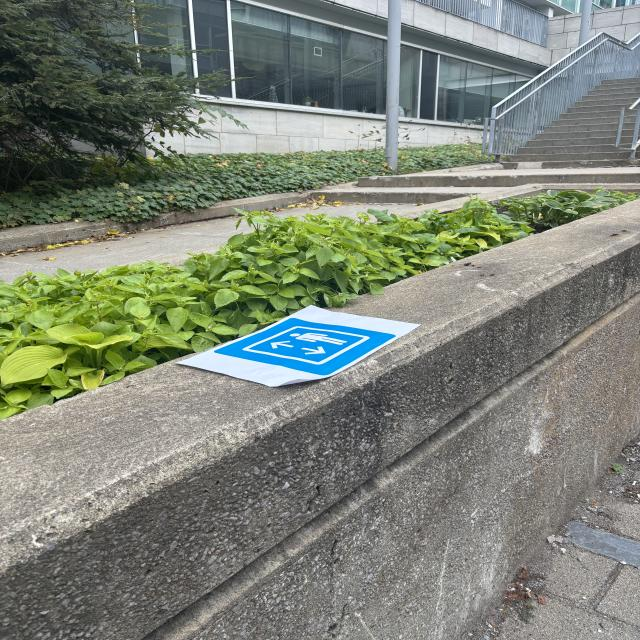elevator: (206, 319, 394, 374)
